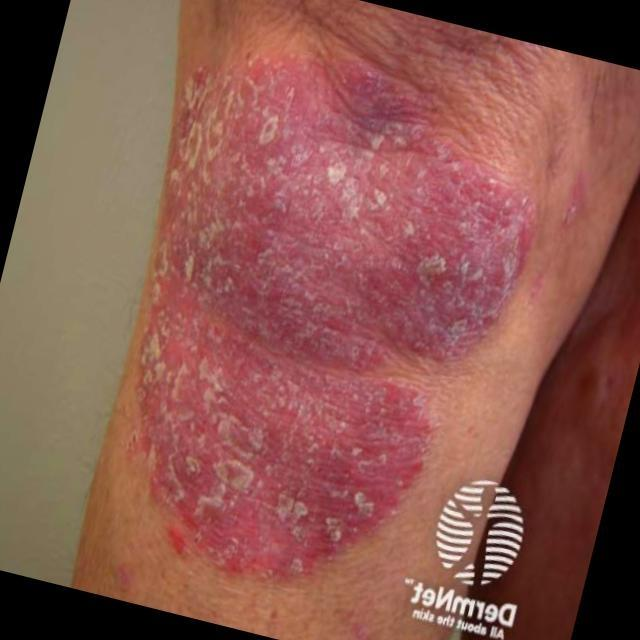Eczema: (157, 59, 524, 580)
